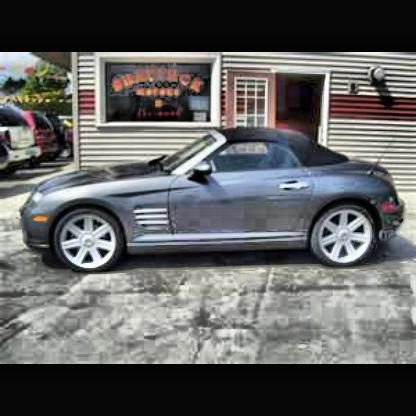Chrysler Crossfire Convertible 2008: (23, 127, 409, 271)
